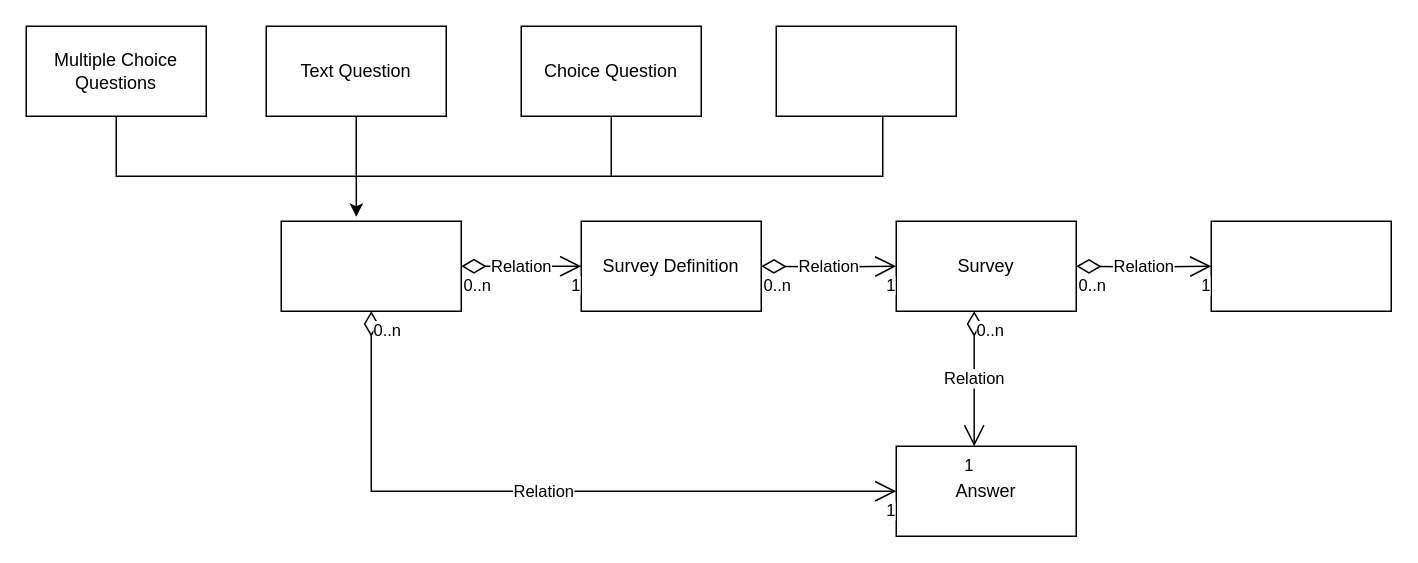
Image size: 1418x563. Some labels were removed from this diagram. The centre of each missing label's shape, as x and y in pixels:
"Number Question" goes at point (865, 70).
"Question" goes at point (370, 265).
"User" goes at point (1300, 265).
